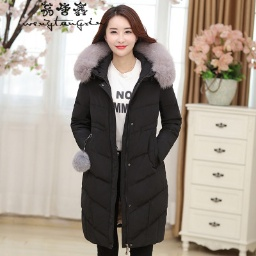face: (93, 4, 149, 60)
